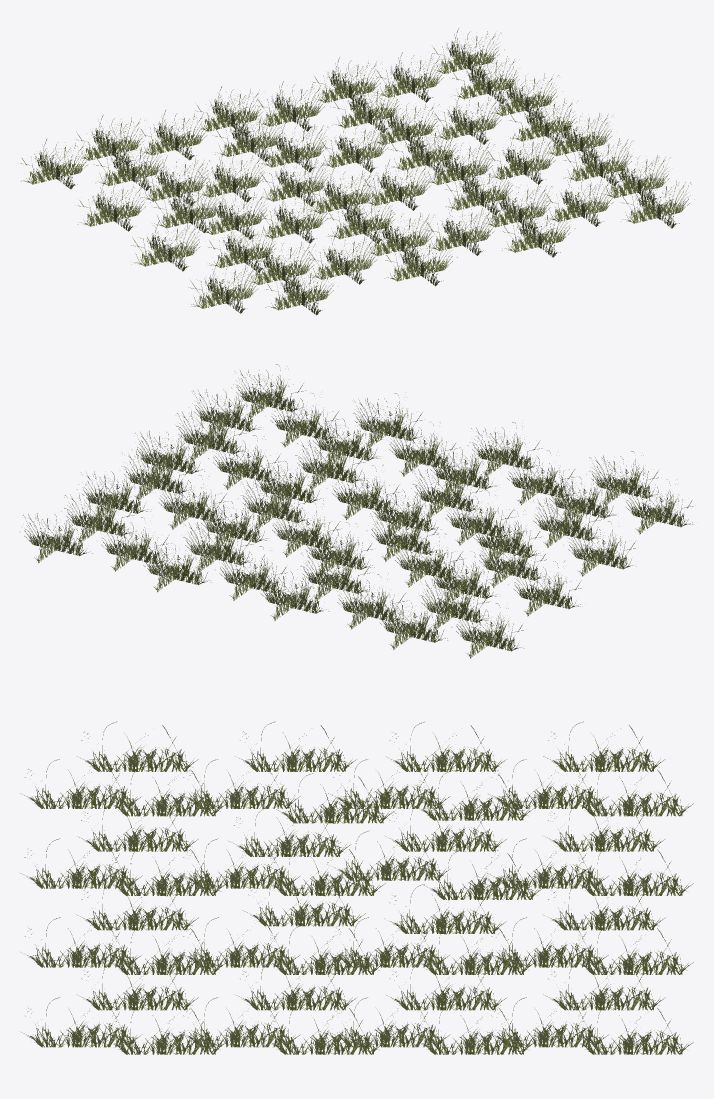
File: grass_big.fbx
3 views of the same model, one above another, from view 1: azimuth 30°, elevation 25°; view 2: azimuth 150°, elevation 25°; view 3: azimuth 270°, elevation 25° (orthographic). The views are drawn at different scales.
Parts seen in each view (by area): view 1: KSLAYER5; view 2: KSLAYER5; view 3: KSLAYER5.
Part boxes in pixels (x1,y1,x2,y2): KSLAYER5: (20,28,694,315); KSLAYER5: (20,364,693,658); KSLAYER5: (20,721,693,1054).
Bounding box in the file's own units: 1196 × 91.01 × 1020.
1 material, 1 textured.
